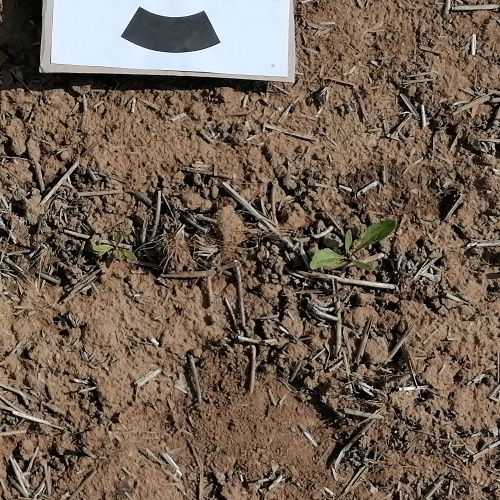beet: (312, 220, 396, 271), (91, 233, 140, 263)
